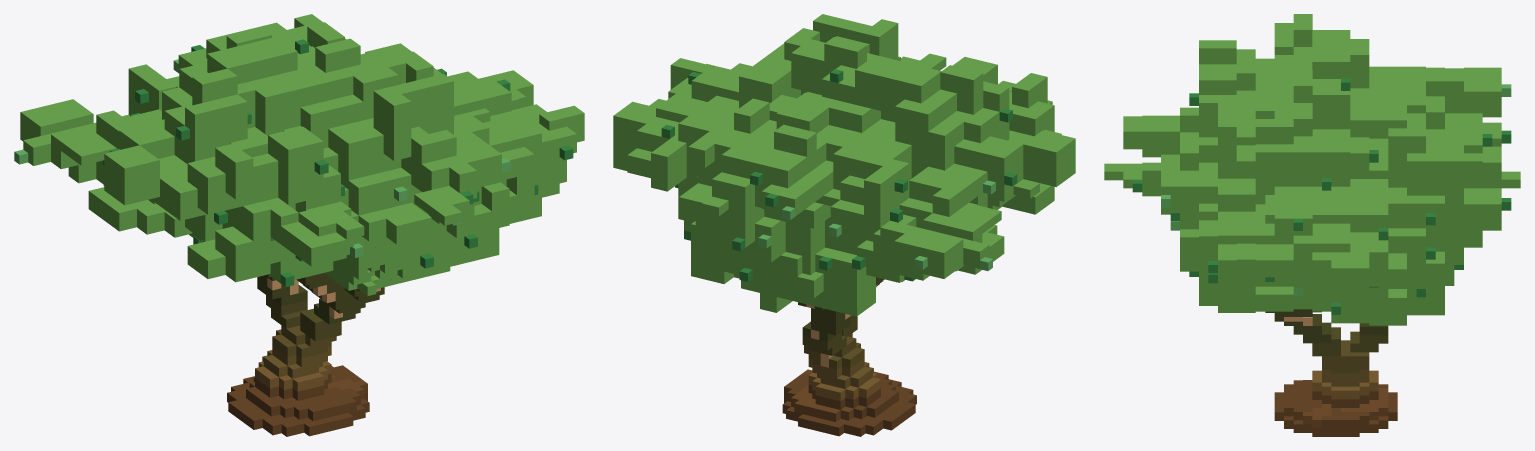
The model's file is Arbórea Exótica - Acerola jovem.obj.
3 views of the same model, side by side, from view 1: azimuth 30°, elevation 25°; view 2: azimuth 150°, elevation 25°; view 3: azimuth 270°, elevation 25° (orthographic). The views are drawn at different scales.
Size of the model in its own units: 5.2 by 4 by 4.4.
1 material, 1 textured.
